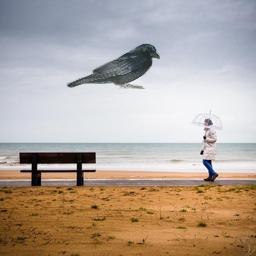Crow: (66, 43, 160, 89)
